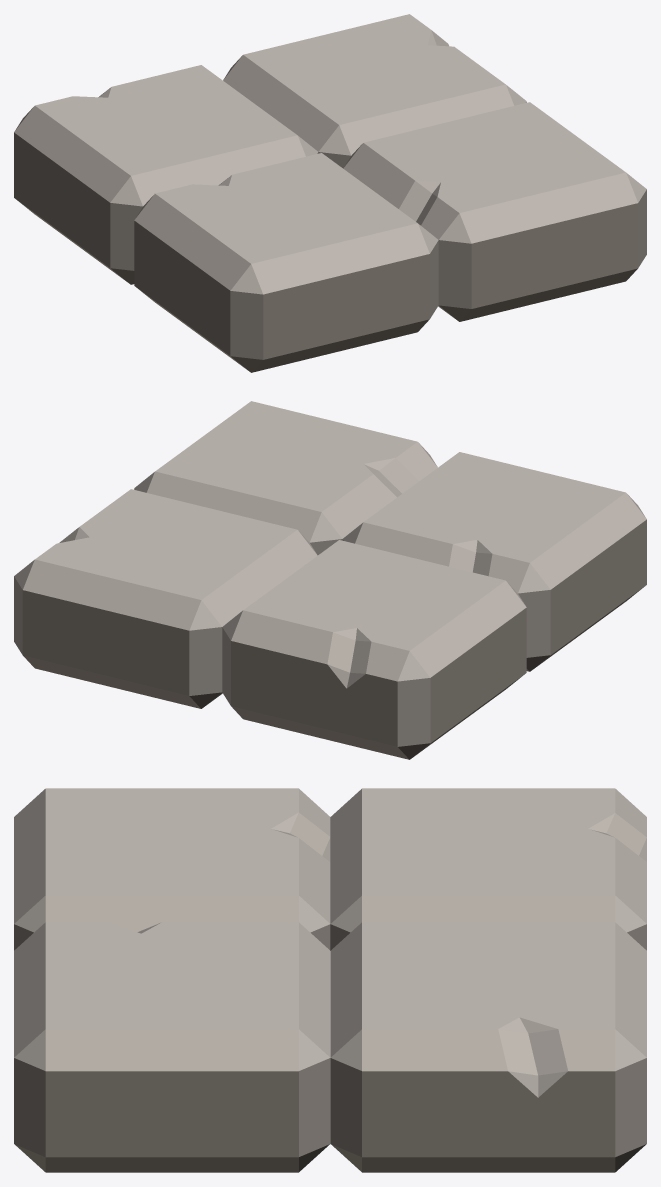
The model's file is m_kub_stone_flatFour.FBX.
3 renders of one model, top to bottom at view 1: azimuth 30°, elevation 25°; view 2: azimuth 150°, elevation 25°; view 3: azimuth 270°, elevation 25°, orthographic. The views are drawn at different scales.
Visible parts, largest first — view 1: m_kub_stone_flatFour; view 2: m_kub_stone_flatFour; view 3: m_kub_stone_flatFour.
Part boxes in pixels (x1,y1,x2,y2): m_kub_stone_flatFour: [14, 14, 646, 372]; m_kub_stone_flatFour: [14, 401, 646, 759]; m_kub_stone_flatFour: [14, 788, 646, 1172].
Size of the model in its own units: 2 by 0.5 by 2.
